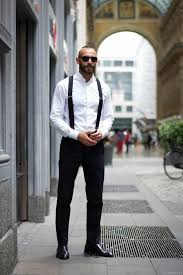F_dress pants: (60, 132, 102, 251)
F_shirt: (47, 70, 116, 140)
